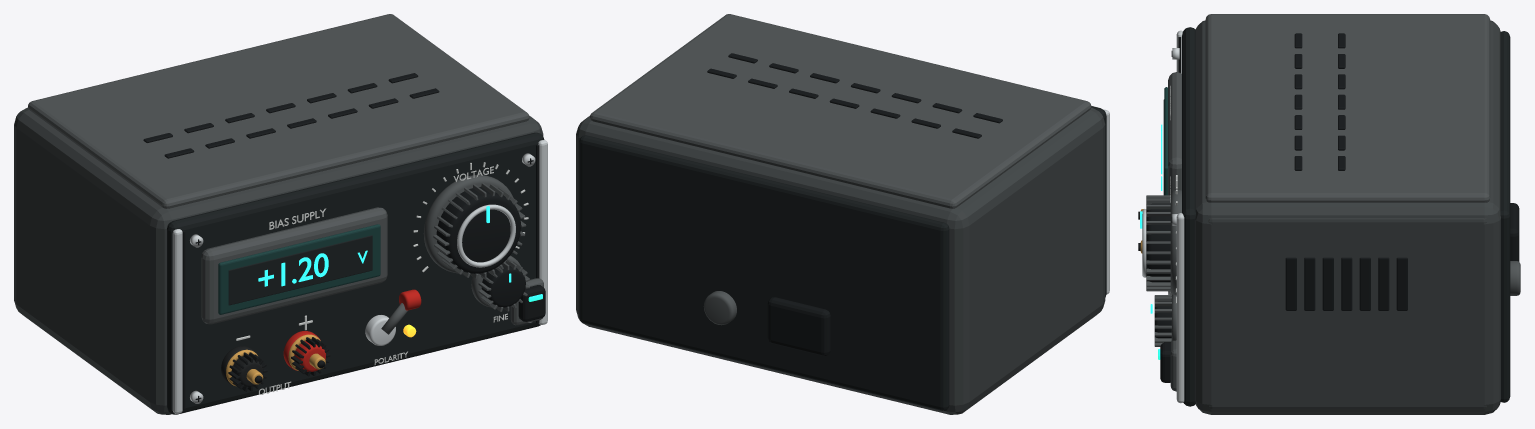
File: photoelectric-bias-power-supply.glb
3 views of the same model, side by side, from view 1: azimuth 30°, elevation 25°; view 2: azimuth 150°, elevation 25°; view 3: azimuth 270°, elevation 25° (orthographic). The views are drawn at different scales.
Parts seen in each view (by area): view 1: PowerSupply_Top_Panel, PowerSupply_Front_Panel, PowerSupply_Main_Casing, Voltage_Display_Bezel, Voltage_Display_Inner_Shadow, Voltage_Dial, Voltage_Display_Screen, Top_Cooling_Vents, Front_Left_Trim, Voltage_Dial_Mount, Voltage_Dial_Knurl, Front_Right_Trim (+9 smaller); view 2: PowerSupply_Rear_Panel, PowerSupply_Top_Panel, PowerSupply_Main_Casing, Rear_Power_Inlet, Top_Cooling_Vents, Rear_Fuse_Cap, Front_Left_Trim; view 3: PowerSupply_Main_Casing, PowerSupply_Top_Panel, PowerSupply_Front_Panel, Right_Side_Cooling_Vents, PowerSupply_Rear_Panel, PowerSupply_Right_Panel, Top_Cooling_Vents, Front_Right_Trim, Voltage_Display_Bezel, Voltage_Dial_Knurl, Voltage_Dial, Voltage_Dial_Mount (+6 smaller).
Boxes of the visible parts, bbox=[...] form: PowerSupply_Top_Panel: bbox=[28, 14, 529, 208]; PowerSupply_Front_Panel: bbox=[167, 132, 544, 414]; PowerSupply_Main_Casing: bbox=[14, 107, 543, 414]; Voltage_Display_Bezel: bbox=[201, 207, 387, 324]; Voltage_Display_Inner_Shadow: bbox=[228, 235, 372, 305]; Voltage_Dial: bbox=[436, 187, 520, 273]; Voltage_Display_Screen: bbox=[218, 224, 380, 314]; Top_Cooling_Vents: bbox=[143, 73, 439, 158]; Front_Left_Trim: bbox=[172, 229, 182, 413]; Voltage_Dial_Mount: bbox=[423, 175, 513, 273]; Voltage_Dial_Knurl: bbox=[433, 183, 526, 278]; Front_Right_Trim: bbox=[538, 140, 547, 324]; PowerSupply_Rear_Panel: bbox=[579, 135, 949, 410]; PowerSupply_Top_Panel: bbox=[590, 14, 1091, 208]; PowerSupply_Main_Casing: bbox=[576, 107, 1105, 414]; Rear_Power_Inlet: bbox=[767, 297, 830, 355]; Top_Cooling_Vents: bbox=[707, 53, 1002, 138]; Rear_Fuse_Cap: bbox=[703, 291, 736, 325]; Front_Left_Trim: bbox=[1104, 109, 1109, 294]; PowerSupply_Main_Casing: bbox=[1195, 20, 1500, 414]; PowerSupply_Top_Panel: bbox=[1205, 14, 1490, 202]; PowerSupply_Front_Panel: bbox=[1182, 27, 1195, 406]; Right_Side_Cooling_Vents: bbox=[1285, 257, 1407, 310]; PowerSupply_Rear_Panel: bbox=[1500, 31, 1510, 402]; PowerSupply_Right_Panel: bbox=[1208, 218, 1486, 409]; Top_Cooling_Vents: bbox=[1294, 33, 1345, 170]; Front_Right_Trim: bbox=[1176, 213, 1184, 403]; Voltage_Display_Bezel: bbox=[1168, 72, 1181, 195]; Voltage_Dial_Knurl: bbox=[1146, 195, 1170, 291]; Voltage_Dial: bbox=[1146, 203, 1170, 282]; Voltage_Dial_Mount: bbox=[1170, 190, 1181, 295].
Bounding box in the file's own units: 4.52 × 2.41 × 3.72.
